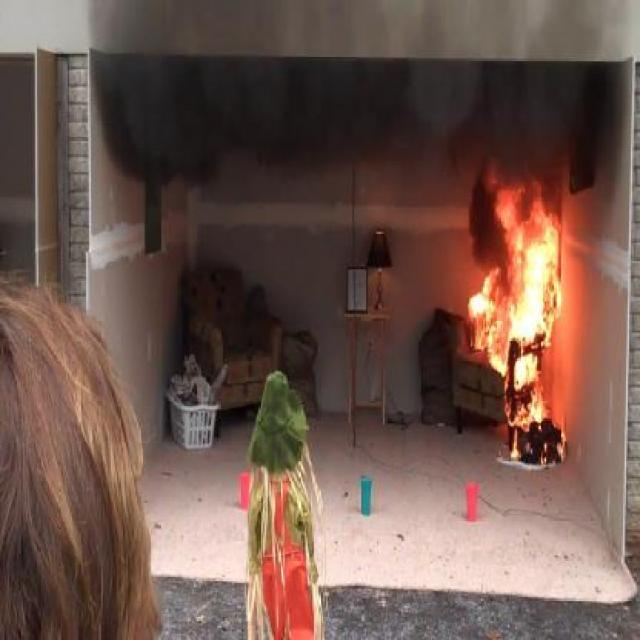fire: (468, 183, 564, 462)
smoke: (88, 36, 594, 190)
